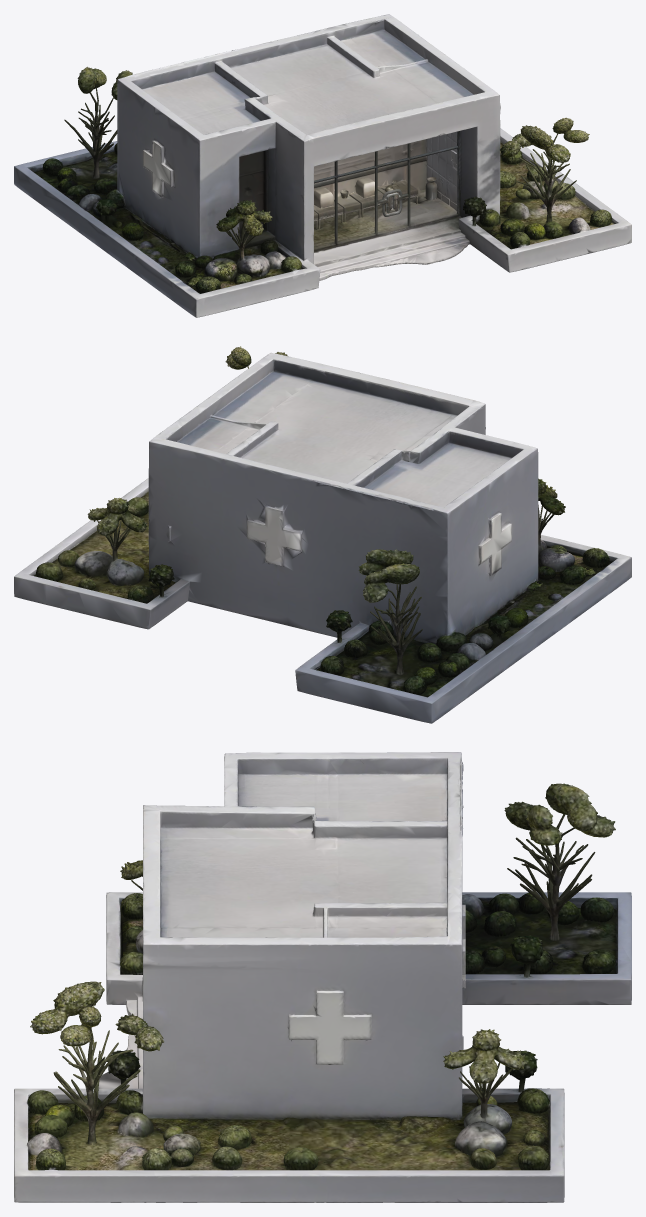
The model's file is ward-main.glb.
3 views of the same model, one above another, from view 1: azimuth 30°, elevation 25°; view 2: azimuth 150°, elevation 25°; view 3: azimuth 270°, elevation 25° (orthographic). The views are drawn at different scales.
Visible parts, largest first — view 1: tripo_node_c08b65f0-2b2a-47c0-b521-060dee59b6d1; view 2: tripo_node_c08b65f0-2b2a-47c0-b521-060dee59b6d1; view 3: tripo_node_c08b65f0-2b2a-47c0-b521-060dee59b6d1.
Boxes of the visible parts, <box> form: tripo_node_c08b65f0-2b2a-47c0-b521-060dee59b6d1: <box>14,14,631,317</box>; tripo_node_c08b65f0-2b2a-47c0-b521-060dee59b6d1: <box>14,346,631,723</box>; tripo_node_c08b65f0-2b2a-47c0-b521-060dee59b6d1: <box>14,752,631,1202</box>.
Bounding box in the file's own units: 0.9789 × 0.322 × 0.9002.
Materials: 1 (1 with a texture image).
